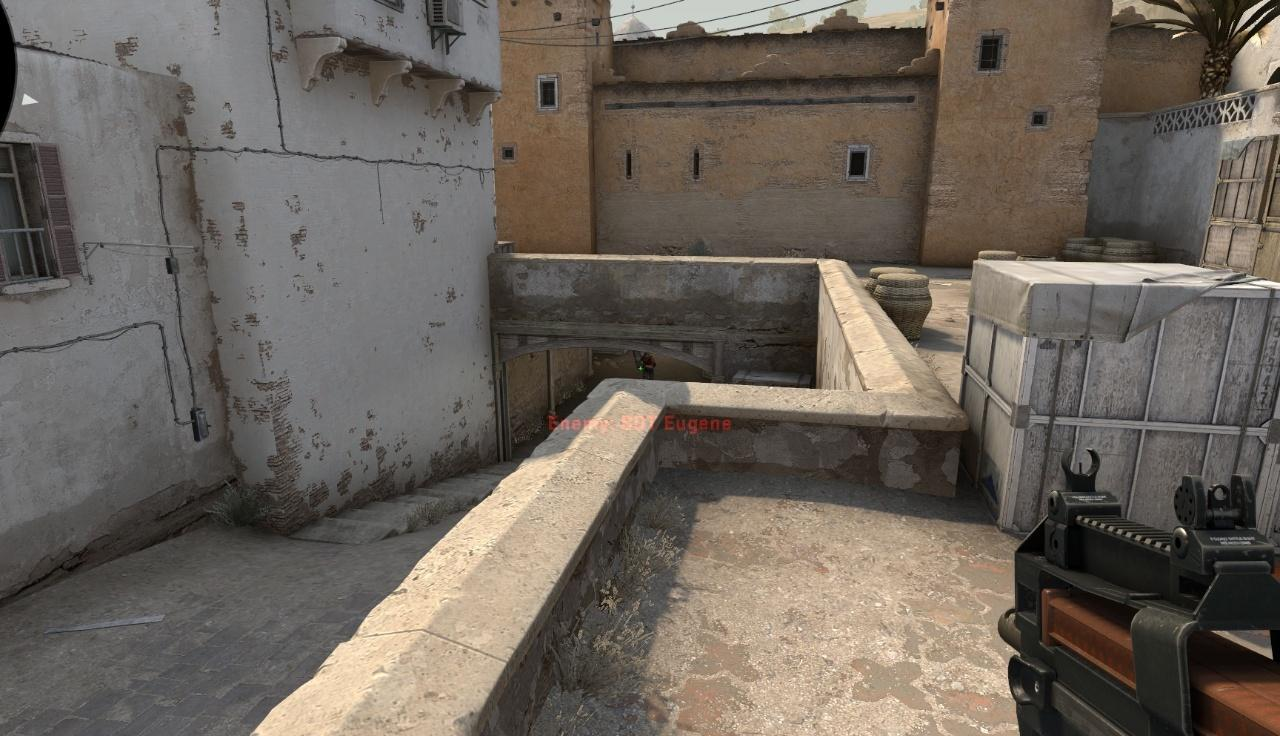rifle: (997, 447, 1280, 736)
tt: (640, 351, 655, 380)
tthead: (644, 351, 650, 359)
